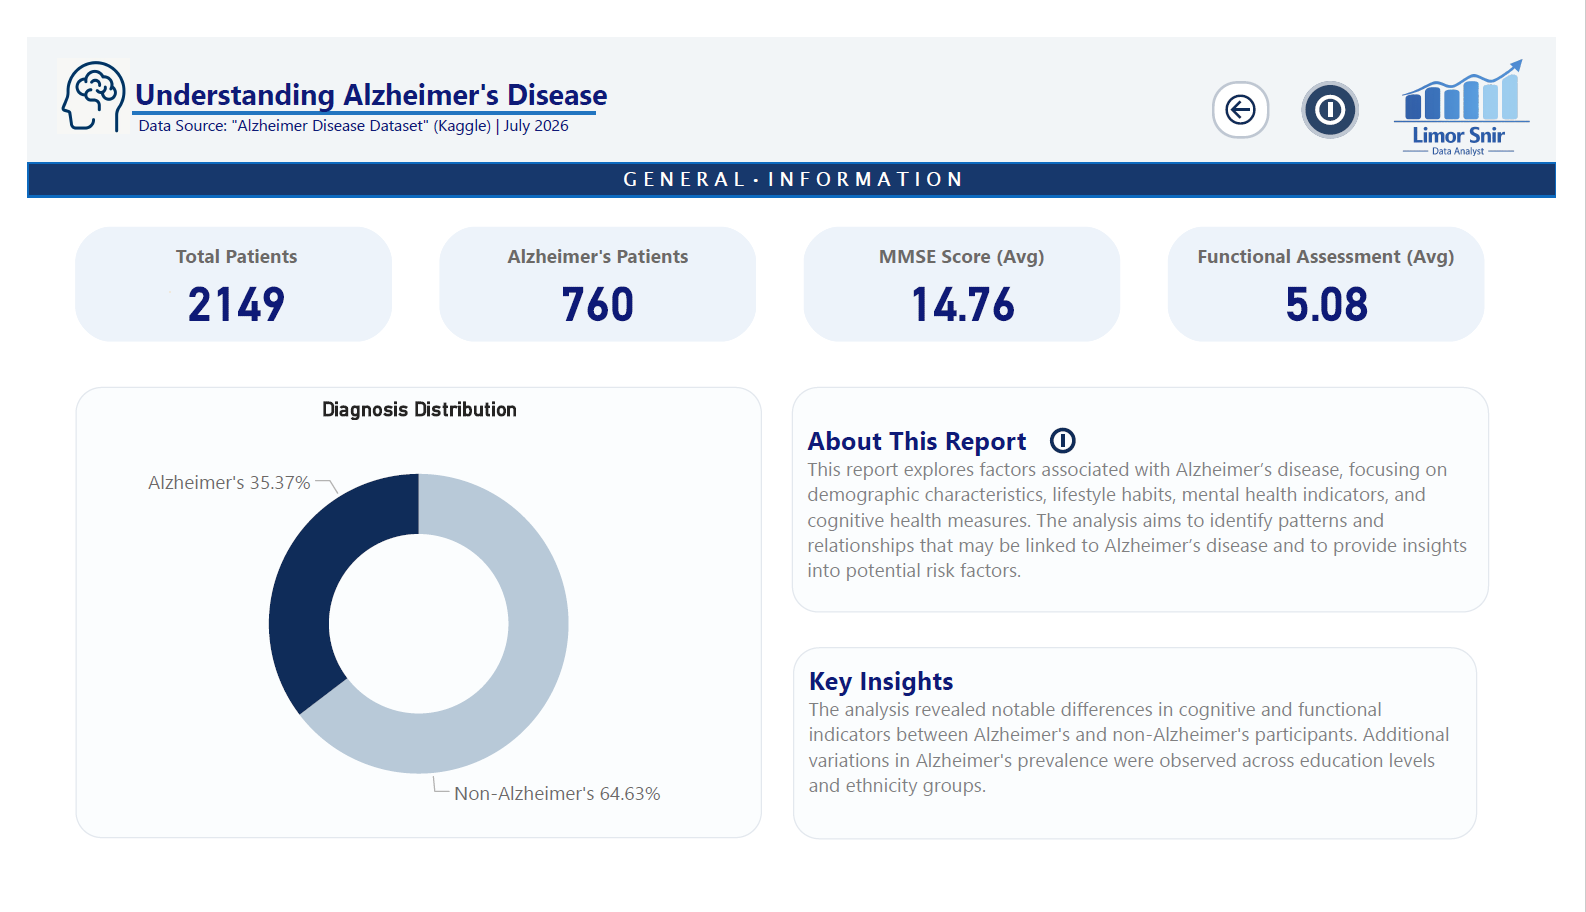

The dashboard page shown, as its layout file describes it:
{"tool":"powerbi","page":{"name":"General Information","canvas":[1280,720],"ordinal":0},"visuals":[{"type":"textbox","box":[640.3,299.9,584.2,189.1],"z":1000},{"type":"shape","title":"Title Line","box":[0,79.8,1280,69.8],"z":2000},{"type":"shape","title":"General Legend","box":[87.7,0,388.2,140.5],"z":3000},{"type":"image","box":[1129.7,18.1,141.9,93.2],"z":4000},{"type":"textbox","title":"main TITLE","box":[0,7.1,1280,108.3],"z":5000},{"type":"image","title":"Alz IMAGE","box":[15.9,19.6,78.3,73.4],"z":6000},{"type":"cardVisual","fields":{"Data":["CountNonNull(alzheimers_disease_data.PatientID)","!measures.Count Alzheimer","Avg(alzheimers_disease_data.MMSE)","Avg(alzheimers_disease_data.FunctionalAssessment)"]},"box":[0,166.3,1262.7,101.4],"z":7000},{"type":"donutChart","title":"Diagnosis Distribution","fields":{"Category":["alzheimers_disease_data.Diagnosis Labels"],"Y":["CountNonNull(alzheimers_disease_data.PatientID)"]},"box":[40.4,299.9,575.1,378.2],"z":8000},{"type":"textbox","title":"key Insights","box":[640.5,517.6,573.5,161.4],"z":9000},{"type":"shape","title":"Page Title","box":[0,112.1,1280.5,28.7],"z":10000},{"type":"actionButton","box":[992.3,44.3,47.7,47.7],"z":11000},{"type":"actionButton","box":[1067.2,44.3,47.7,47.7],"z":12000},{"type":"actionButton","box":[852.3,330.2,100.3,29.3],"z":18000}]}

Visuals, with their boxes in screenshot pixels (x1, y1, x2, y2), scaled from the page's 1280x720 canvas onto the 1586x912 screenshot:
textbox: bbox=(793, 380, 1517, 619)
"Title Line" shape: bbox=(0, 101, 1585, 189)
"General Legend" shape: bbox=(109, 0, 590, 178)
image: bbox=(1400, 23, 1576, 141)
"main TITLE" textbox: bbox=(0, 9, 1585, 146)
"Alz IMAGE" image: bbox=(20, 25, 117, 118)
cardVisual - CountNonNull(alzheimers_disease_data.PatientID) x !measures.Count Alzheimer: bbox=(0, 211, 1565, 339)
"Diagnosis Distribution" donutChart: bbox=(50, 380, 763, 859)
"key Insights" textbox: bbox=(794, 656, 1504, 860)
"Page Title" shape: bbox=(0, 142, 1585, 178)
actionButton: bbox=(1230, 56, 1289, 117)
actionButton: bbox=(1322, 56, 1381, 117)
actionButton: bbox=(1056, 418, 1180, 455)
